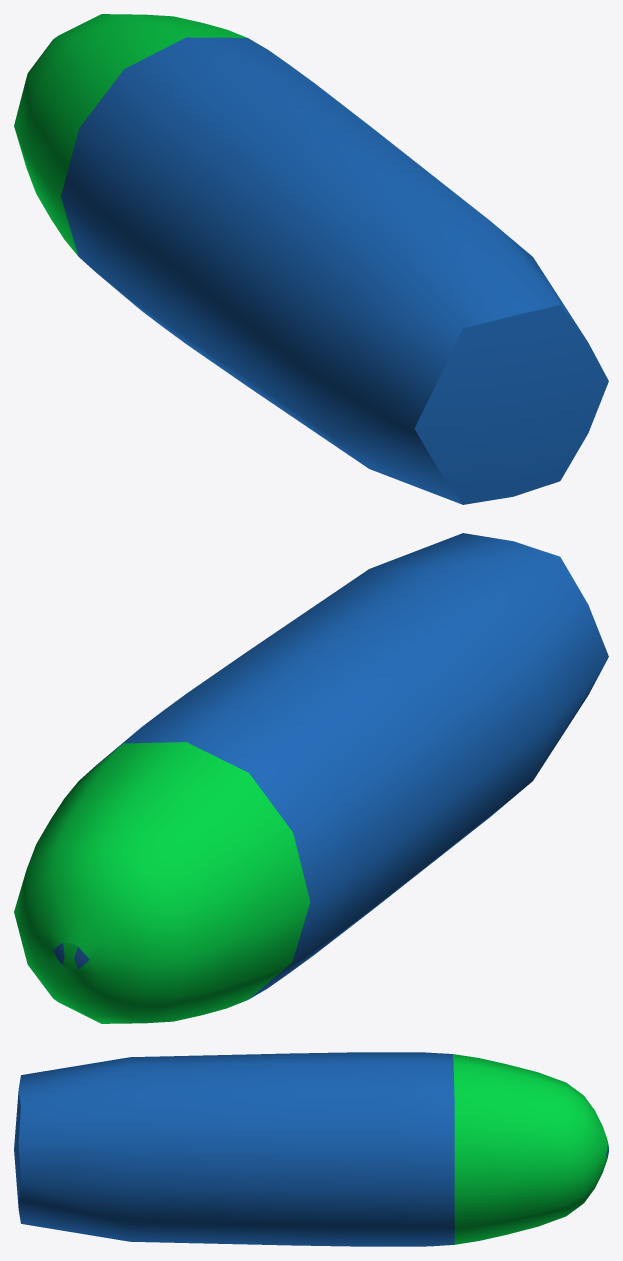
File: Bullet.fbx
3 views of the same model, one above another, from view 1: azimuth 30°, elevation 25°; view 2: azimuth 150°, elevation 25°; view 3: azimuth 270°, elevation 25° (orthographic). The views are drawn at different scales.
Visible parts, largest first — view 1: Bullet1; view 2: Bullet1; view 3: Bullet1.
Part boxes in pixels (x1,y1,x2,y2): Bullet1: (14, 14, 608, 504); Bullet1: (14, 533, 608, 1023); Bullet1: (14, 1052, 608, 1246).
Bounding box in the file's own units: 13.91 × 13.77 × 42.38.
